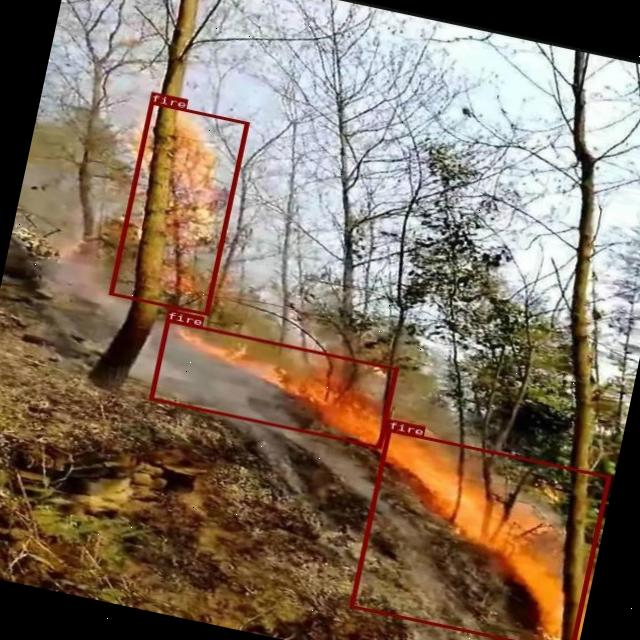fire: (349, 428, 610, 640), (148, 318, 397, 448), (108, 100, 249, 314)
